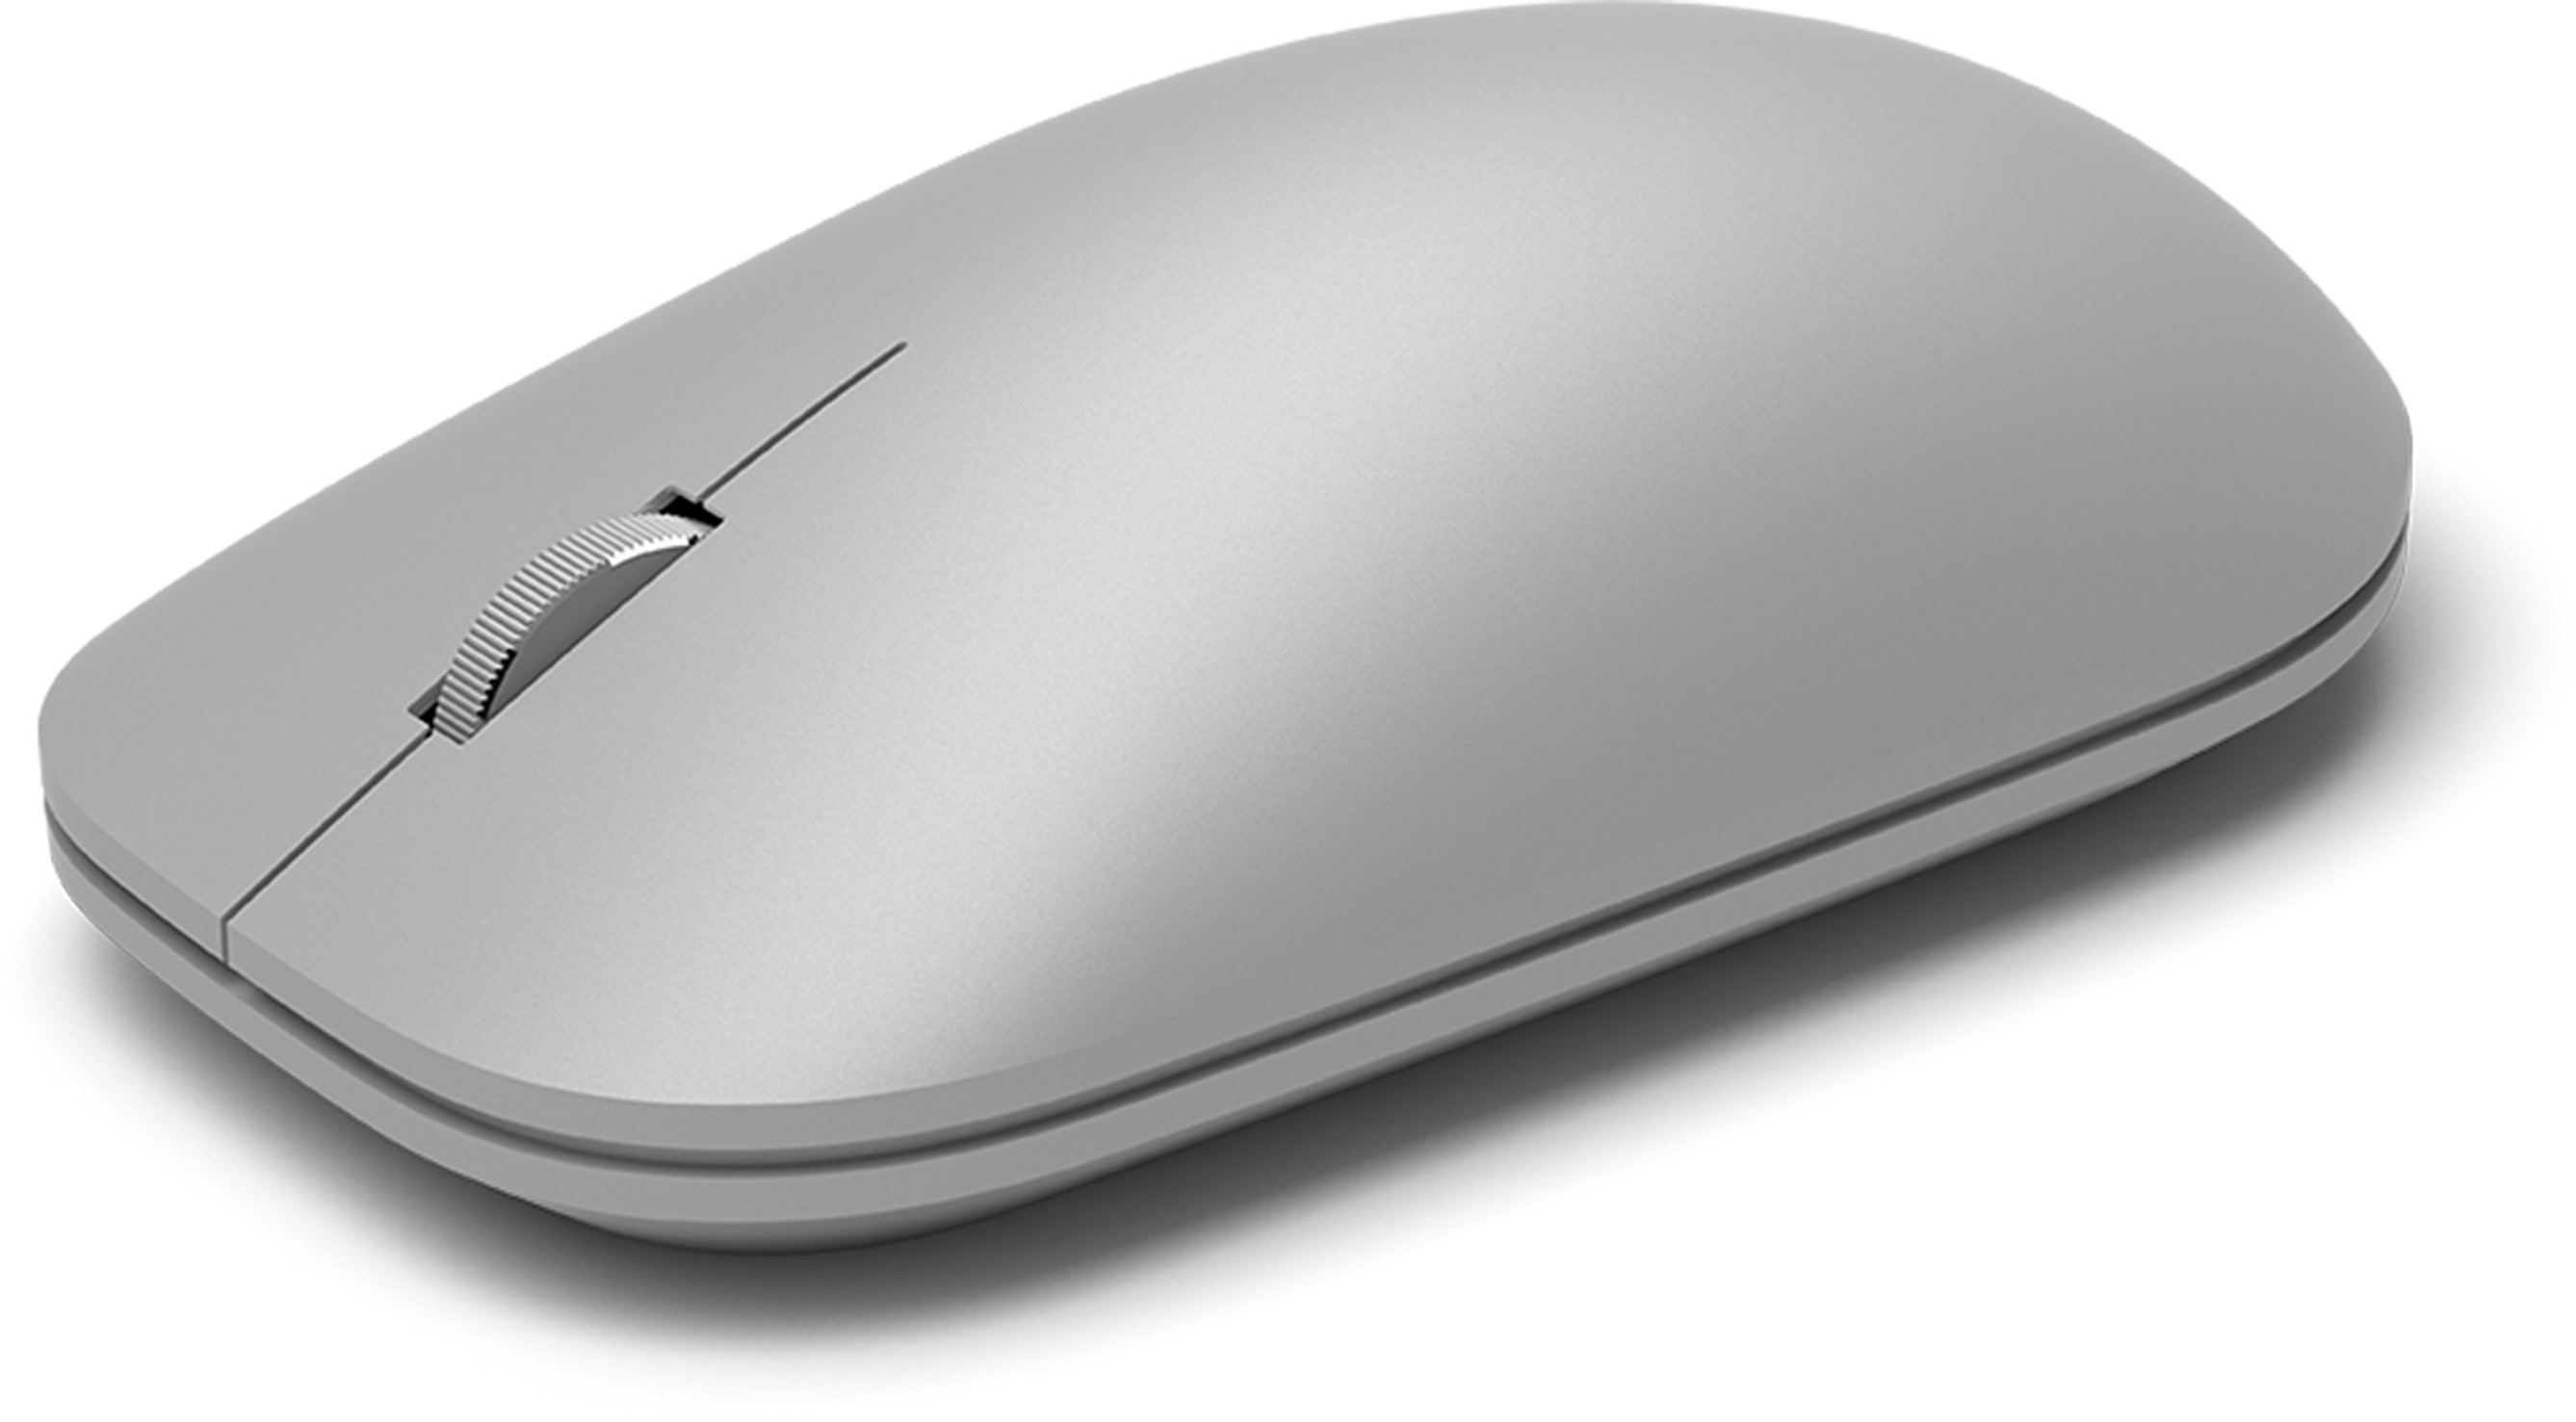Mouse: (67, 4, 2515, 1329)
